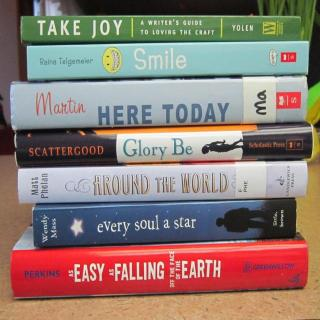book-spine: (9, 220, 309, 298), (10, 74, 308, 130), (17, 159, 308, 206), (14, 122, 314, 166), (32, 198, 297, 247), (27, 39, 309, 81), (21, 16, 301, 45)
